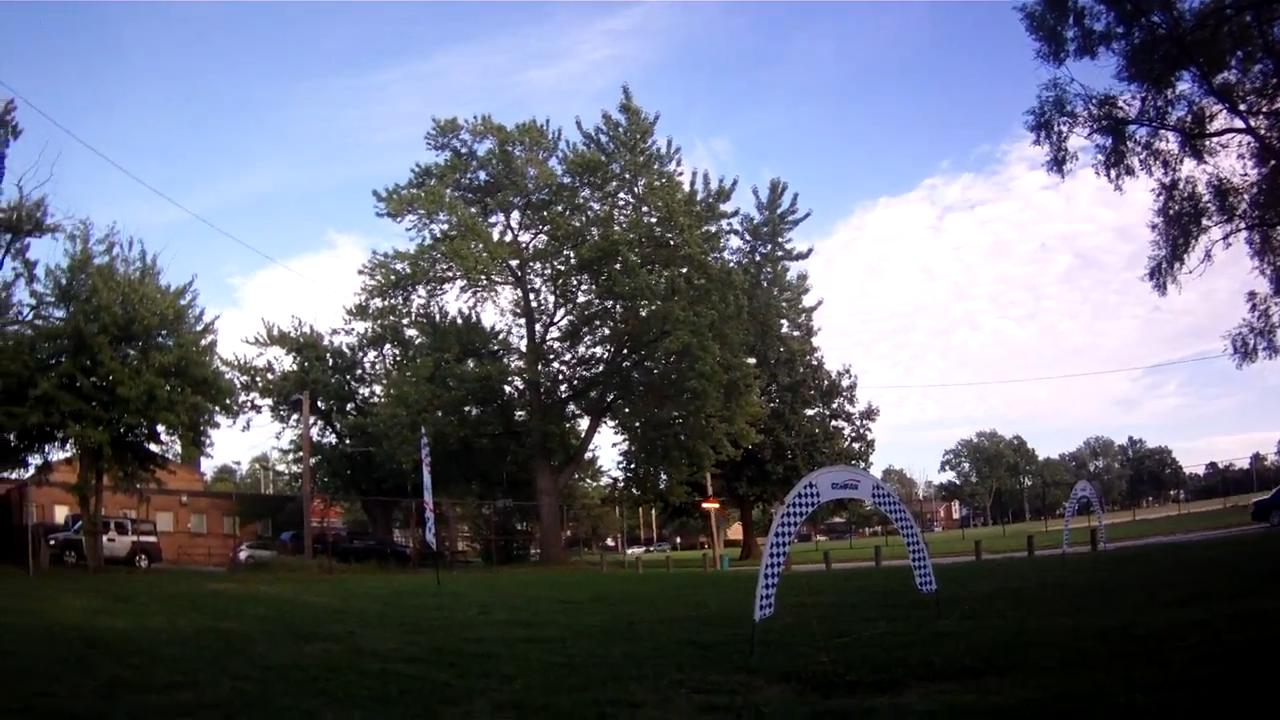gate: (752, 460, 939, 622), (1062, 476, 1108, 554)
